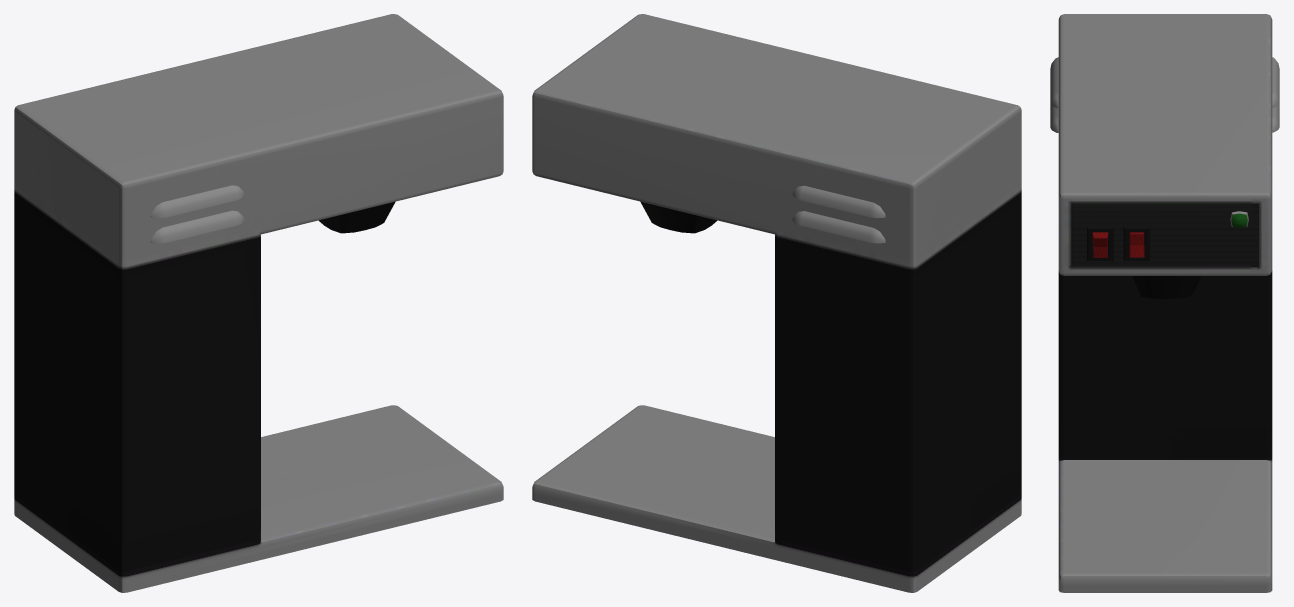
The model's file is coffee machien.glb.
3 renders of one model, left to right at view 1: azimuth 30°, elevation 25°; view 2: azimuth 150°, elevation 25°; view 3: azimuth 270°, elevation 25°, orthographic. The views are drawn at different scales.
Visible parts, largest first — view 1: RecCenter_Percolator; view 2: RecCenter_Percolator; view 3: RecCenter_Percolator.
Part boxes in pixels (bbox=[...]): RecCenter_Percolator: bbox=[14, 14, 503, 592]; RecCenter_Percolator: bbox=[532, 14, 1021, 592]; RecCenter_Percolator: bbox=[1050, 14, 1279, 592].
Size of the model in its own units: 0.71 by 0.7076 by 0.3693.
1 material, 1 textured.
